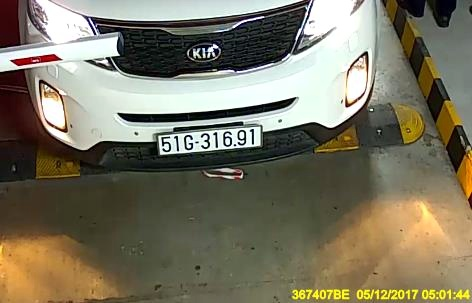plate: (156, 126, 262, 157)
